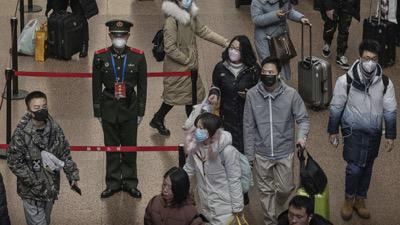with_mask: (30, 102, 48, 123), (359, 54, 380, 72), (194, 124, 212, 143), (259, 68, 277, 87), (111, 33, 128, 51), (227, 45, 243, 63)
without_mask: (160, 181, 175, 200), (287, 211, 305, 225)
